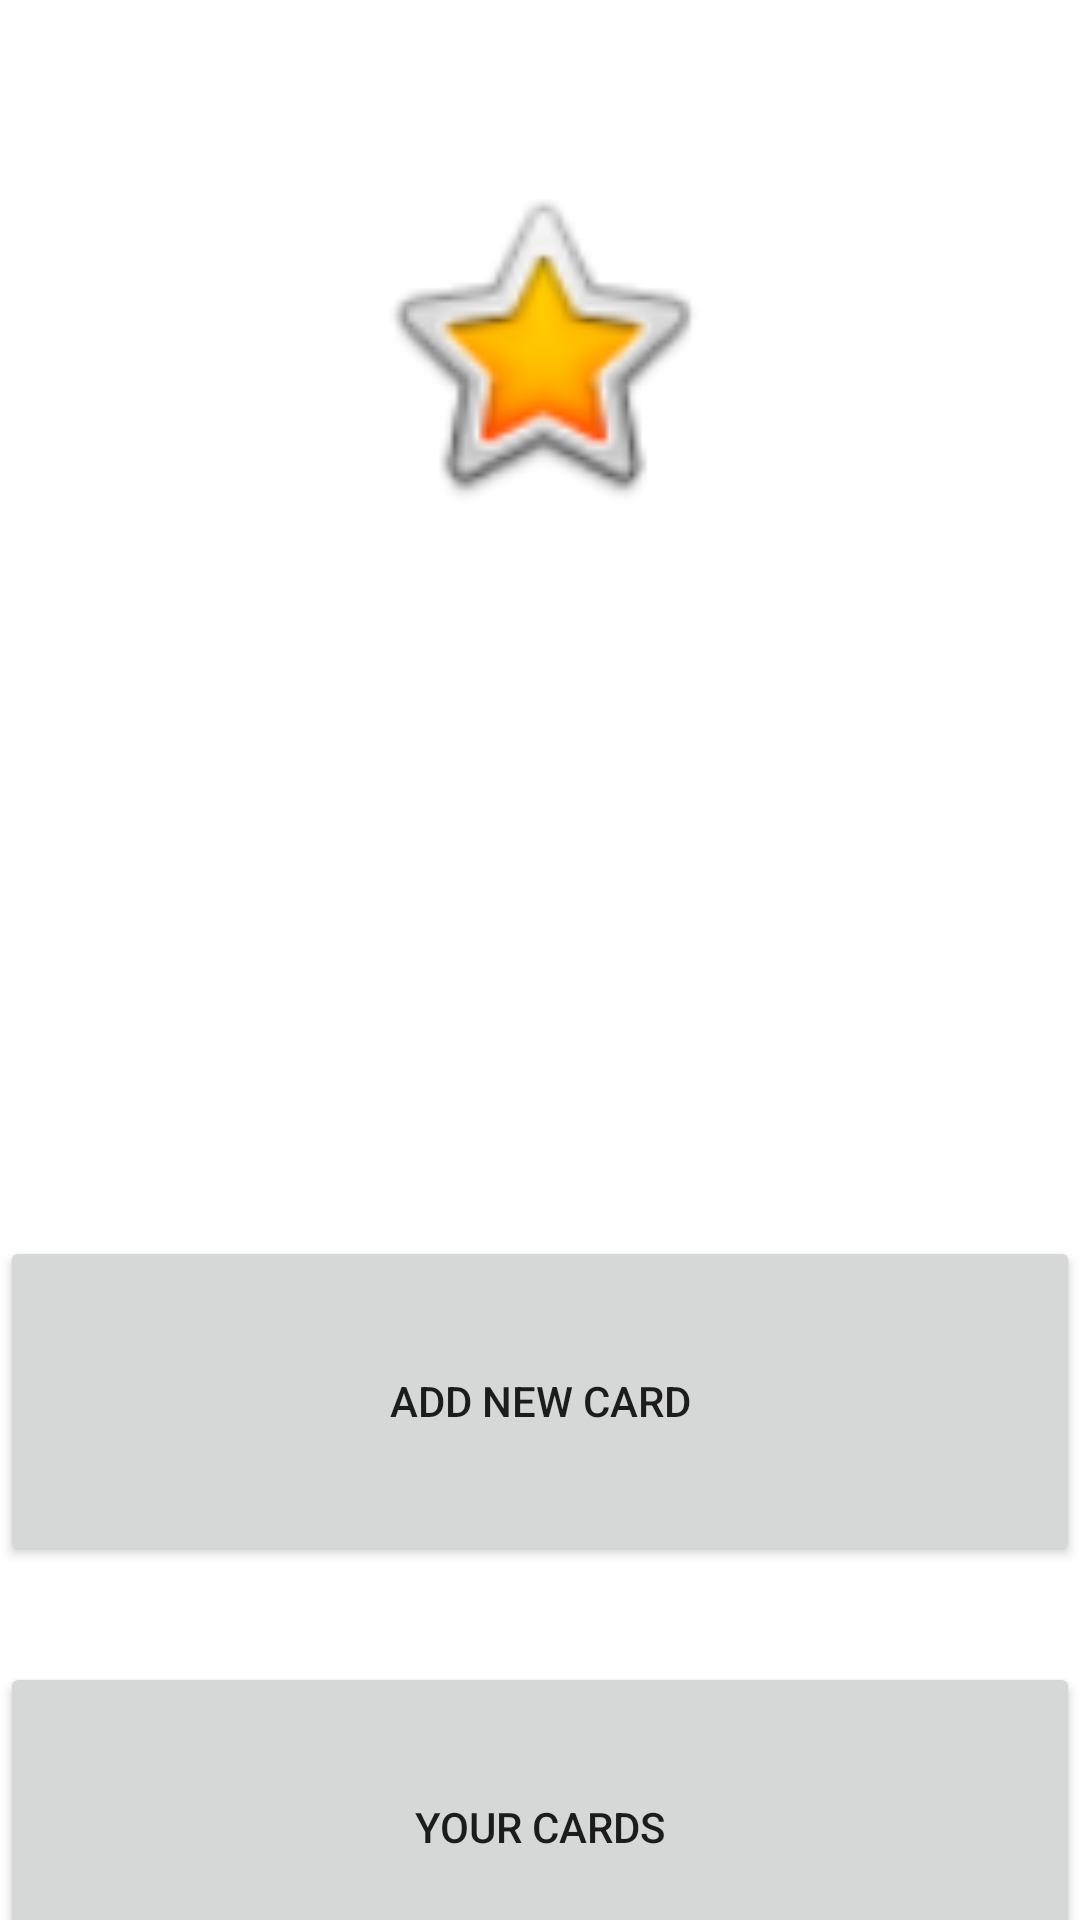

Screen size 1080 x 1920. Icon name, then its box in pixels as [x1=x1, y1=y1, x2=x2, y2=y2]:
star on: [x1=395, y1=203, x2=692, y2=492]
